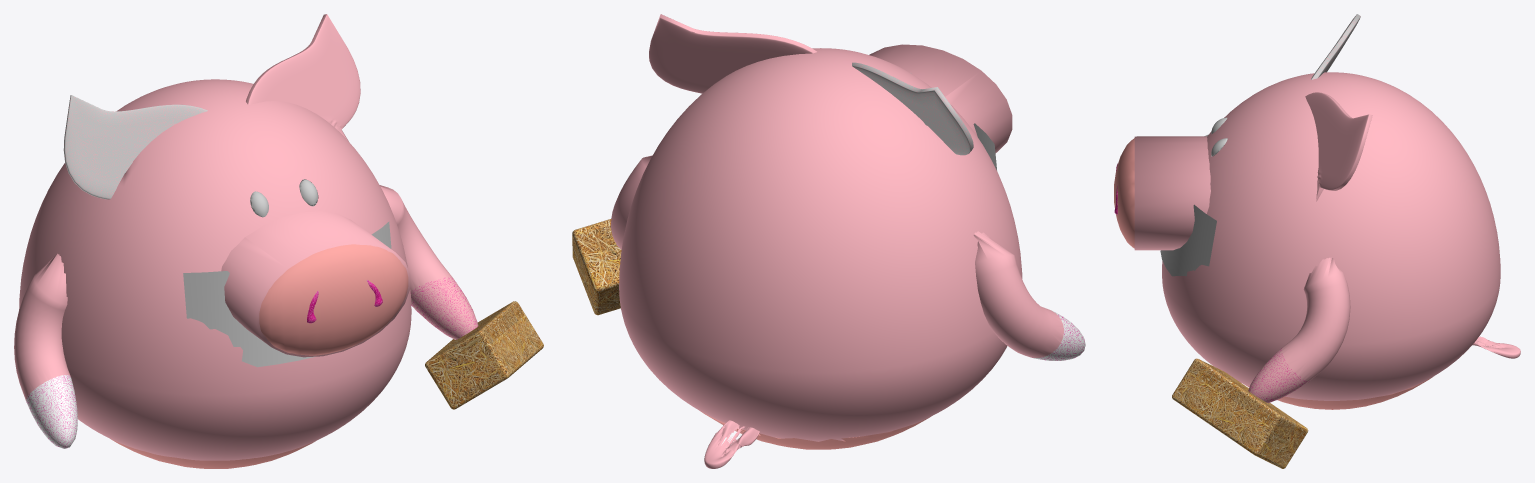
The model's file is pink_pig_straw.dae.
3 views of the same model, side by side, from view 1: azimuth 30°, elevation 25°; view 2: azimuth 150°, elevation 25°; view 3: azimuth 270°, elevation 25° (orthographic). The views are drawn at different scales.
Parts seen in each view (by area): view 1: group_0 (×10), group_1, Component1; view 2: group_0 (×8), group_1 (×2), Component1; view 3: group_0 (×9), Component1, group_1.
Boxes of the visible parts, bbox=[...] form: group_0 (×10): bbox=[14, 79, 478, 468]; group_1: bbox=[246, 14, 360, 142]; Component1: bbox=[425, 301, 543, 409]; group_0 (×8): bbox=[611, 44, 1085, 468]; group_1 (×2): bbox=[649, 14, 817, 93]; Component1: bbox=[572, 219, 621, 315]; group_0 (×9): bbox=[1114, 14, 1520, 409]; Component1: bbox=[1172, 358, 1308, 468]; group_1: bbox=[1305, 92, 1372, 201].
Size of the model in its own units: 39.97 by 32.78 by 29.86.
